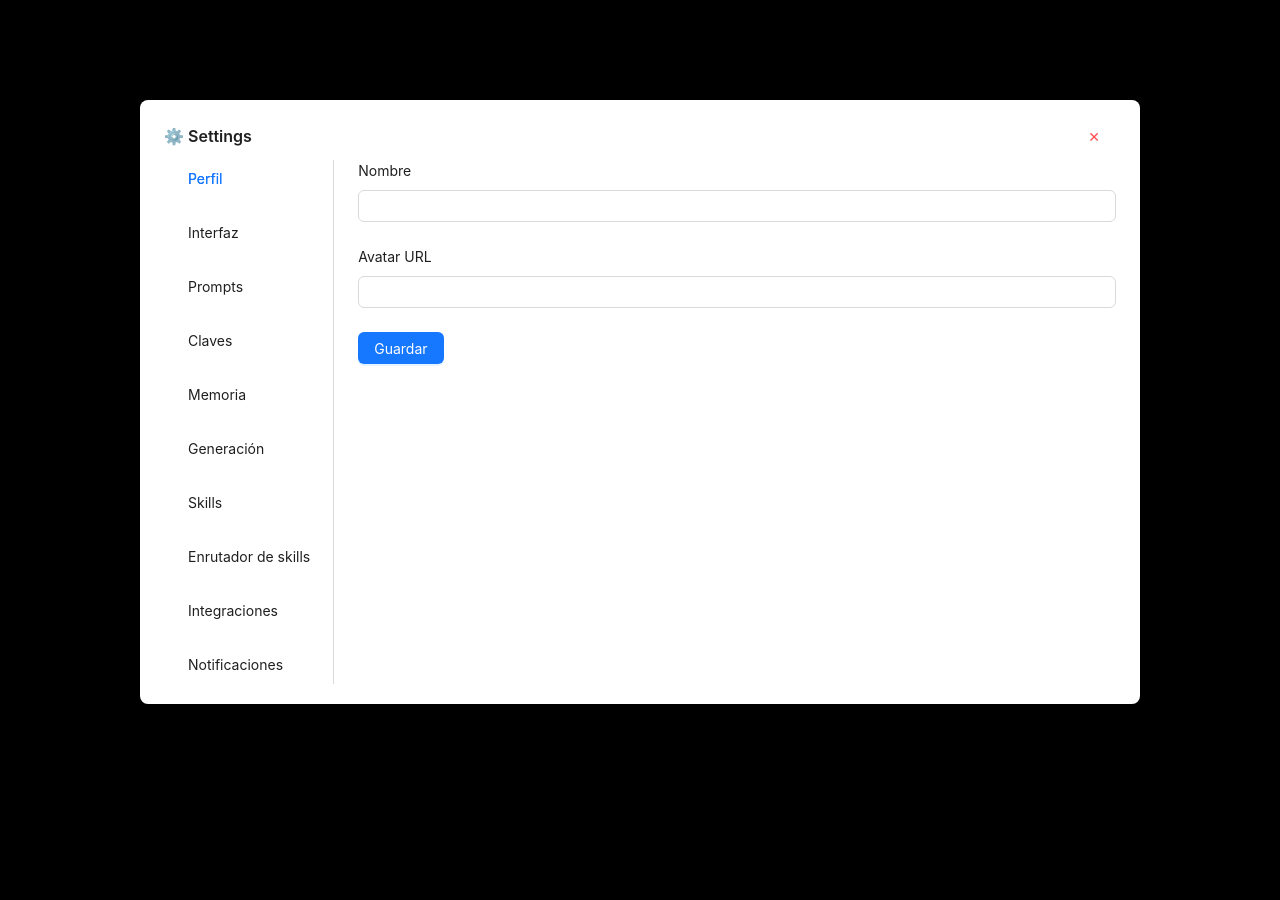
Scenario: SettingsDialog › shows error message when resetToDefaults fails
Click the tab "Interfaz".
click(213, 233)  # box [188, 222, 239, 244]
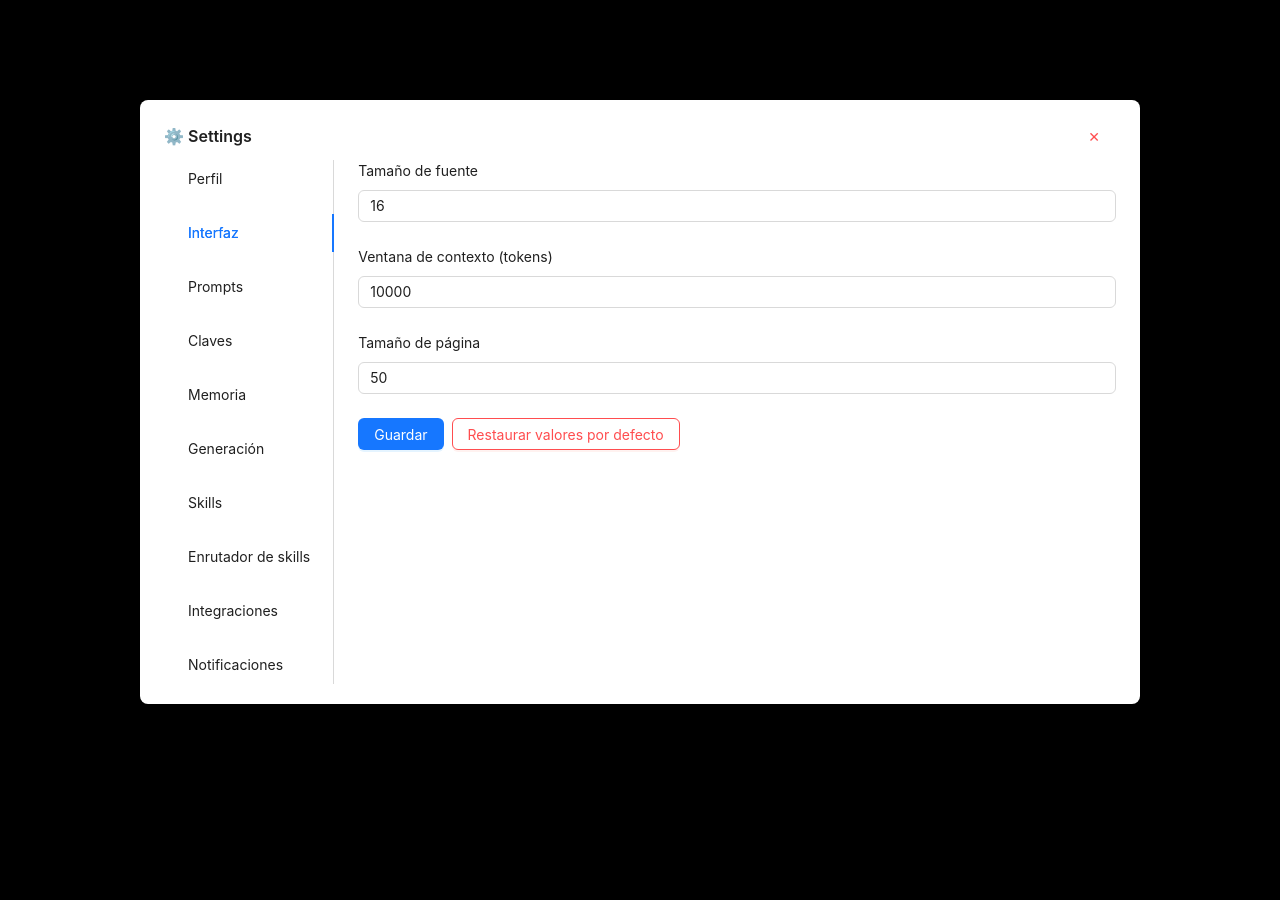
Click the button "Restaurar valores por defecto".
click(566, 434)  # box [452, 418, 680, 450]
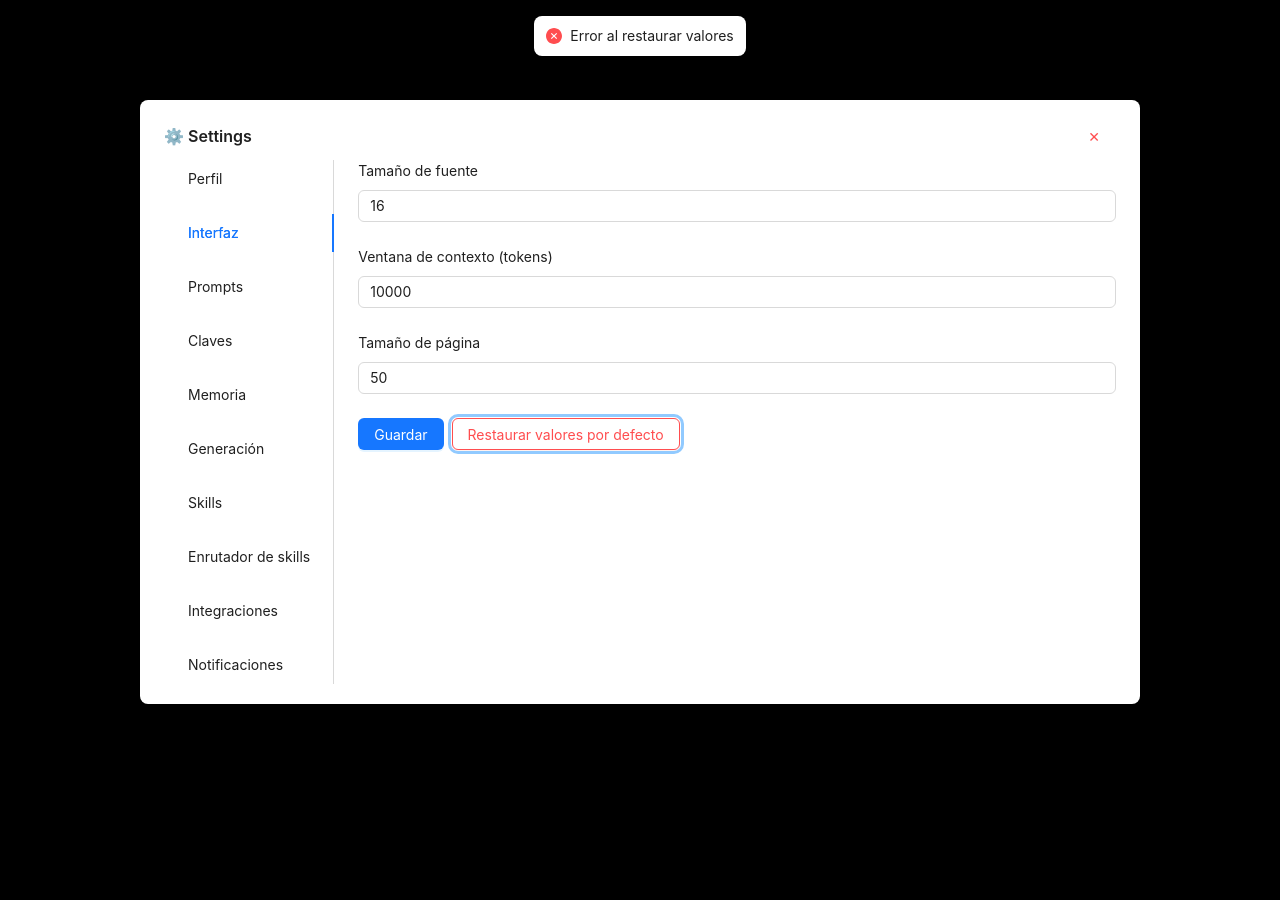
Expected: the text "Error al restaurar valores" is shown, [570, 25, 734, 47]
